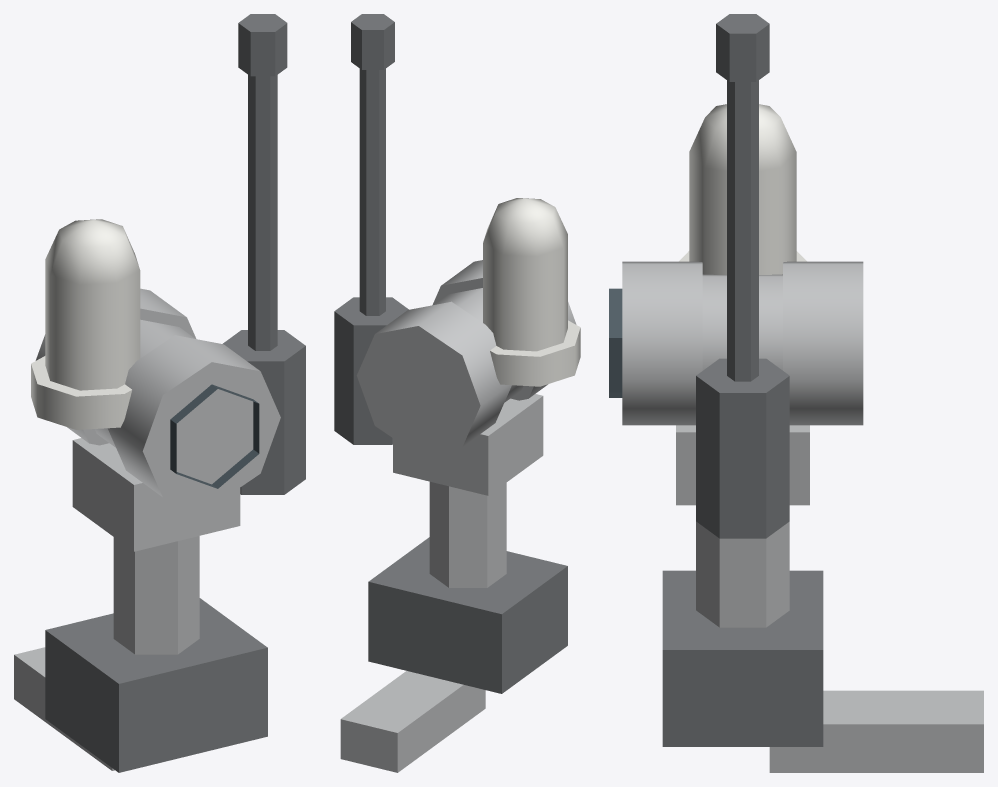
Rendered from sensor_bracket_lite.glb.
3 renders of one model, left to right at view 1: azimuth 30°, elevation 25°; view 2: azimuth 150°, elevation 25°; view 3: azimuth 270°, elevation 25°, orthographic. The views are drawn at different scales.
Visible parts, largest first — view 1: SENSOR_KIT_steel_dark, SENSOR_KIT_steel, SENSOR_KIT_light, SENSOR_KIT_glass; view 2: SENSOR_KIT_steel, SENSOR_KIT_steel_dark, SENSOR_KIT_light; view 3: SENSOR_KIT_steel, SENSOR_KIT_steel_dark, SENSOR_KIT_light, SENSOR_KIT_glass.
Boxes of the visible parts, <box> form: SENSOR_KIT_steel_dark: <box>45,14,305,772</box>; SENSOR_KIT_steel: <box>14,288,280,770</box>; SENSOR_KIT_light: <box>31,219,140,429</box>; SENSOR_KIT_glass: <box>170,384,259,488</box>; SENSOR_KIT_steel: <box>340,260,576,772</box>; SENSOR_KIT_steel_dark: <box>334,14,567,693</box>; SENSOR_KIT_light: <box>483,198,580,386</box>; SENSOR_KIT_steel: <box>622,261,983,772</box>; SENSOR_KIT_steel_dark: <box>662,14,823,746</box>; SENSOR_KIT_light: <box>679,104,806,274</box>; SENSOR_KIT_glass: <box>609,288,622,397</box>.
Bounding box in the file's own units: 0.2423 × 0.65 × 0.28.
